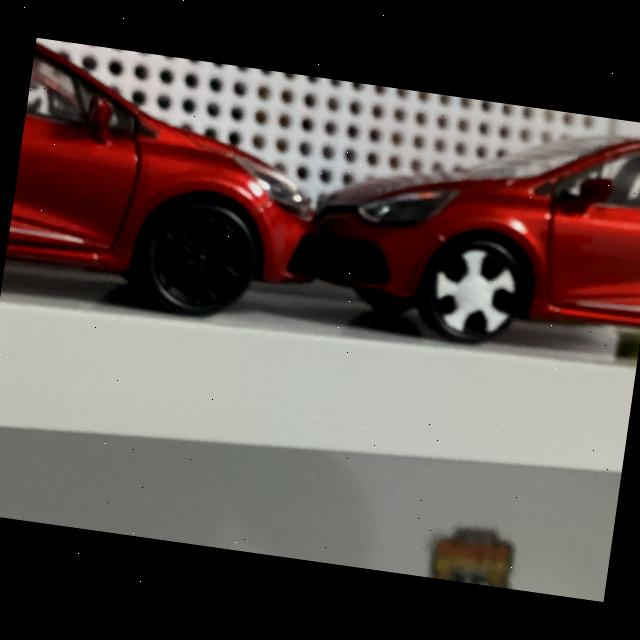Dogru_Jant: (149, 206, 252, 312)
Yanlis_Jant: (430, 242, 525, 340)
